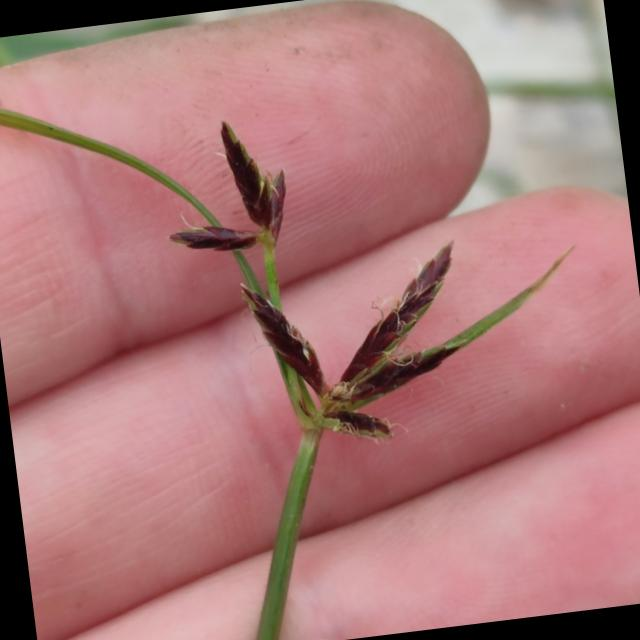cyperus: (142, 82, 520, 487)
